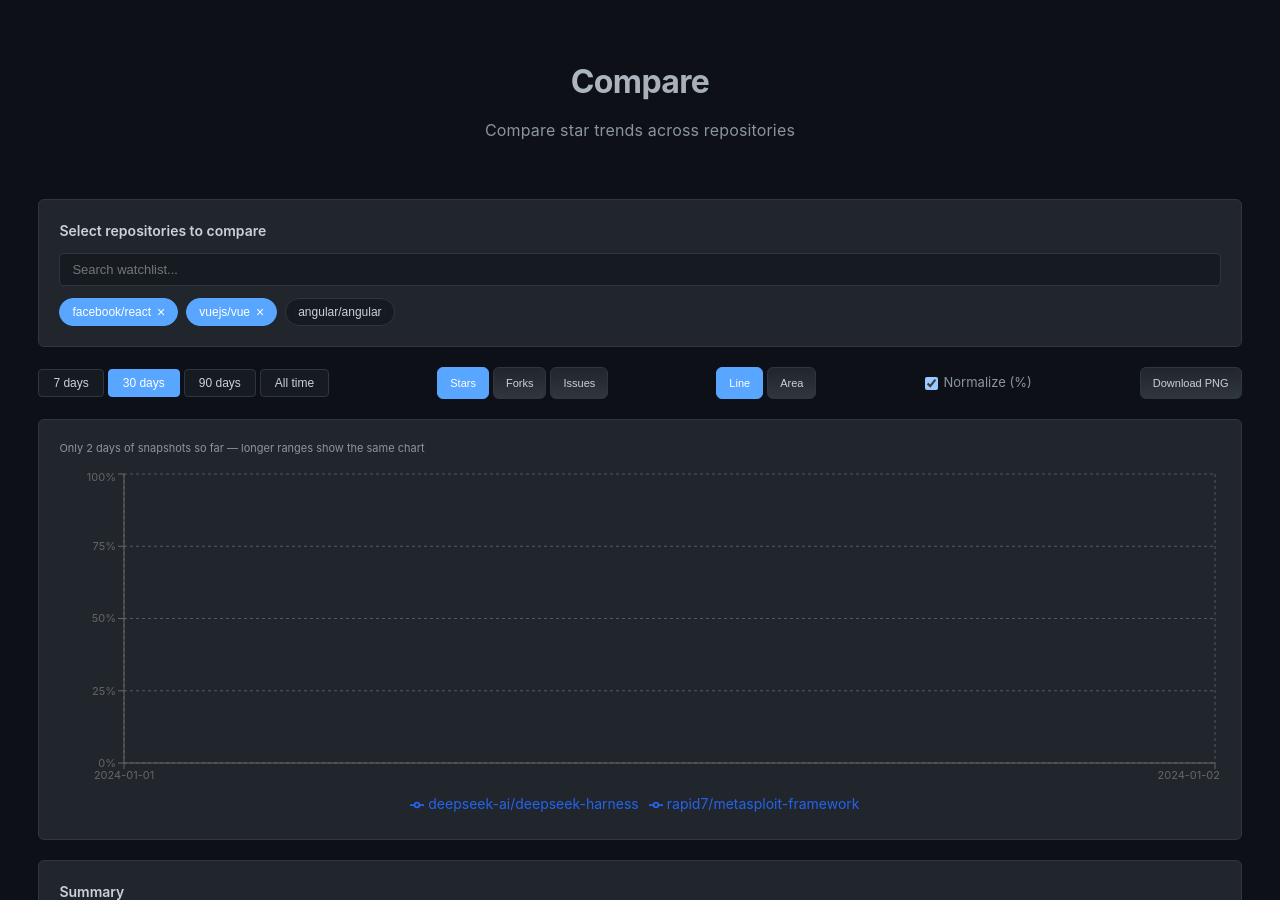
Scenario: Compare — 算不出百分比時說明原因 › 點名那個沒有線的 repo，而不是讓它無聲消失
The width and height of the screenshot is (1280, 900).
Click the button "Issues".
click(579, 383)  # box [550,367,608,399]
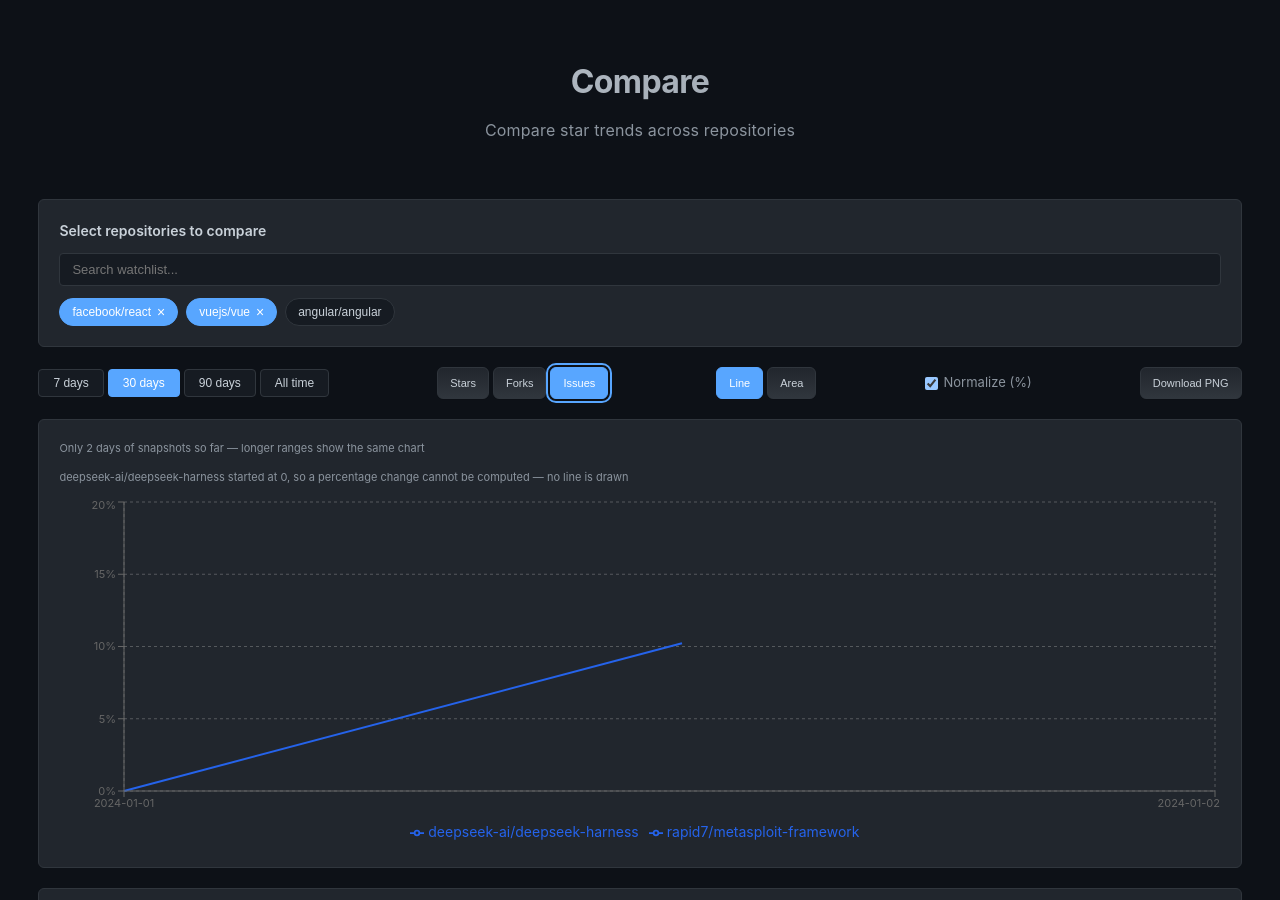
Now the text "deepseek-ai/deepseek-harness started at 0" is shown, box [59,470,628,484]
